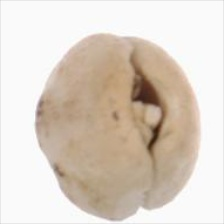L3: (127, 58, 166, 156)
L4: (35, 34, 199, 222)
